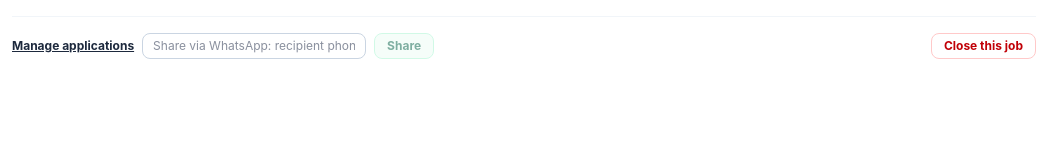
Test case: careers client components › lets the poster close a job after confirming, and reports a failure instead of ignoring it
Click the button "Close this job": (983, 46) left=931, top=33, right=1036, bottom=59
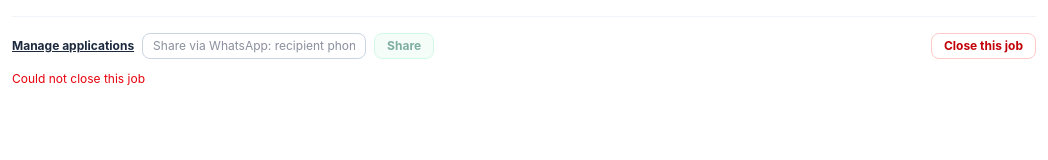
Result: the message reads "Could not close this job" at left=12, top=71, right=145, bottom=86
